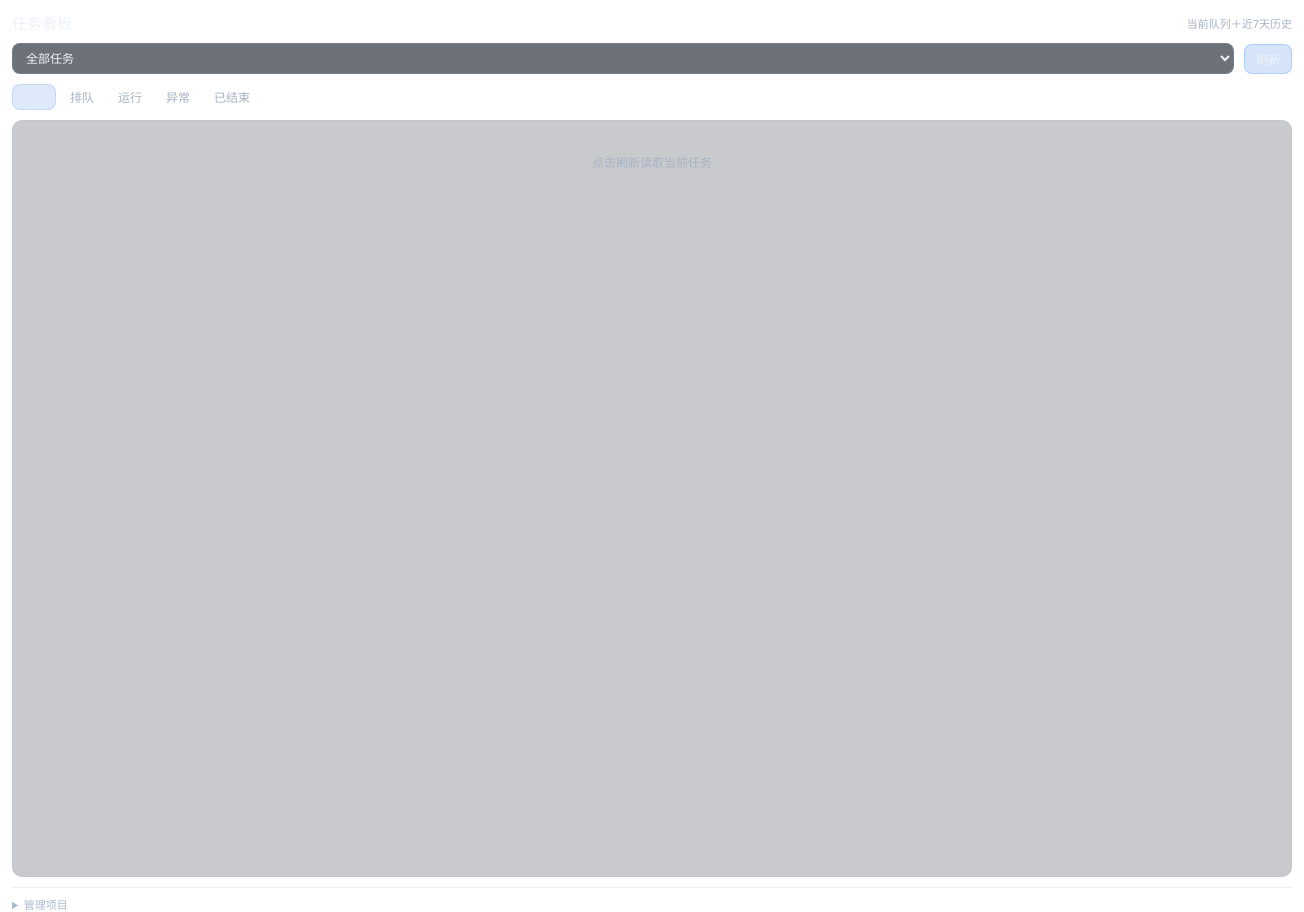
Test: HPC task board › selects jobs and saves a named batch, surviving a storage failure in memory
The width and height of the screenshot is (1304, 912).
Click the button "刷新". click: {"x": 1268, "y": 58}
box: x1=1244 y1=44 x2=1292 y2=74
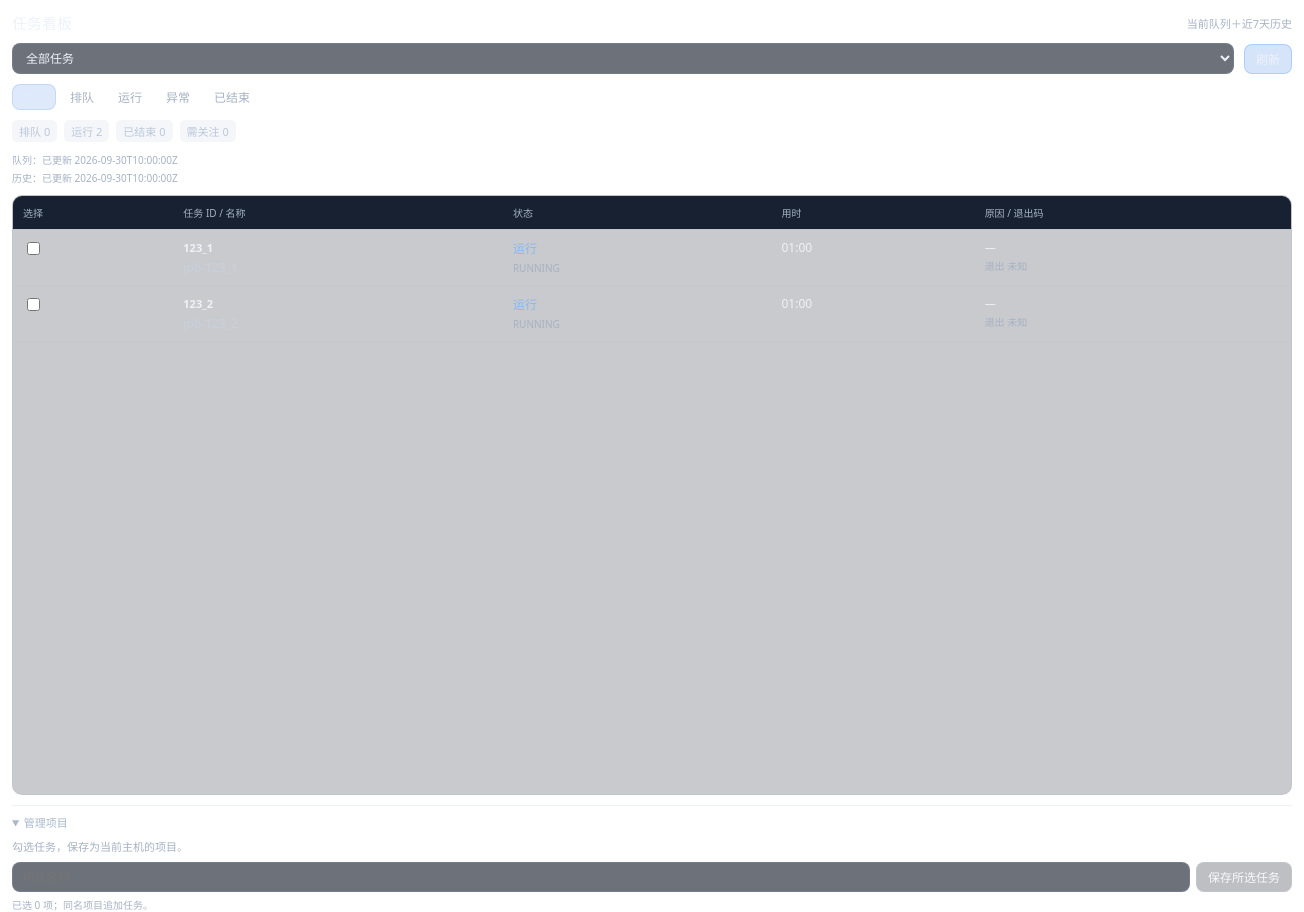
Click the checkbox named "选择任务 123_1". click: {"x": 34, "y": 248}
box: x1=27 y1=242 x2=40 y2=255
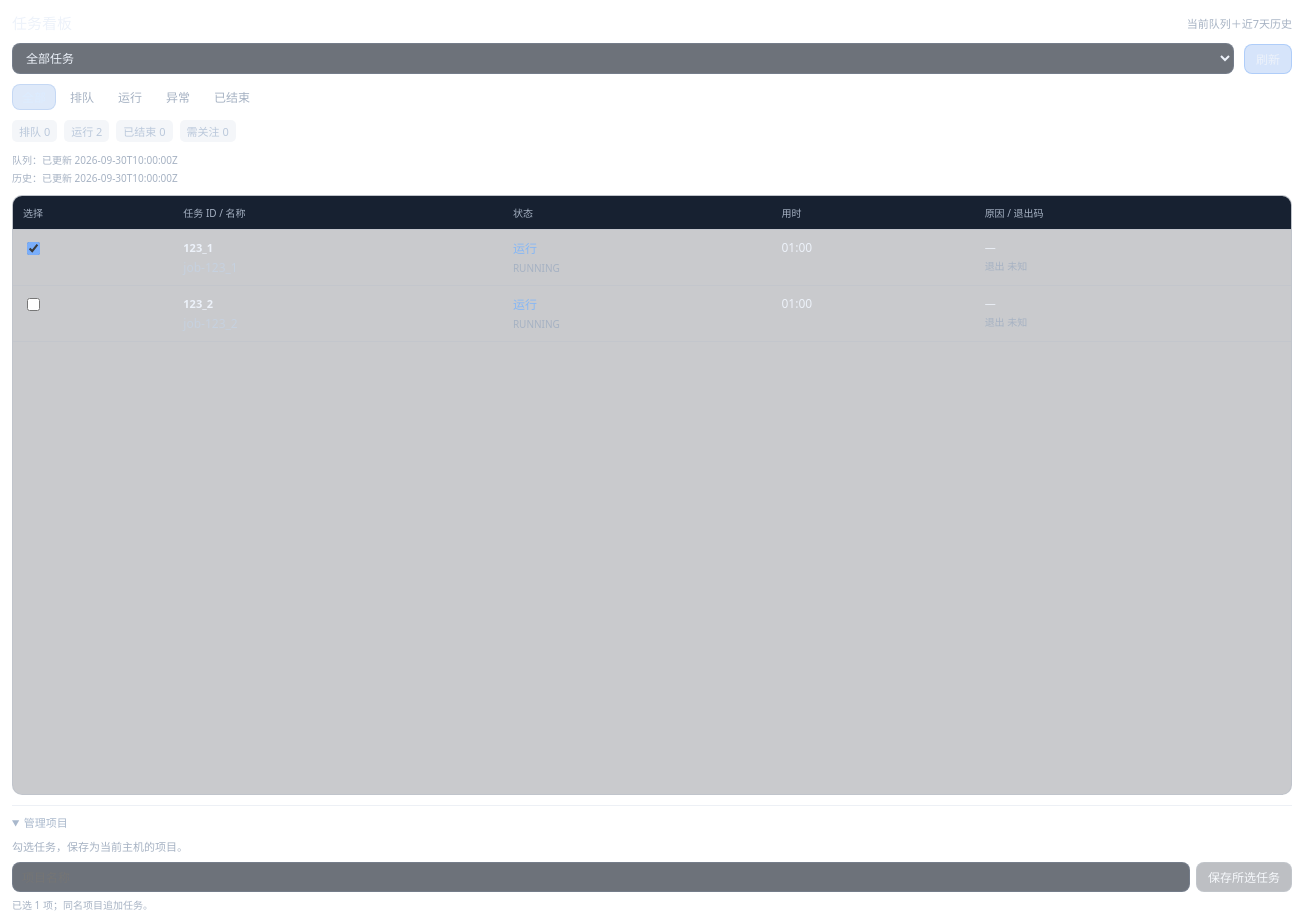
Type "选中批次" into the field labelled "项目名称". click: {"x": 601, "y": 877}
box: x1=12 y1=862 x2=1190 y2=892
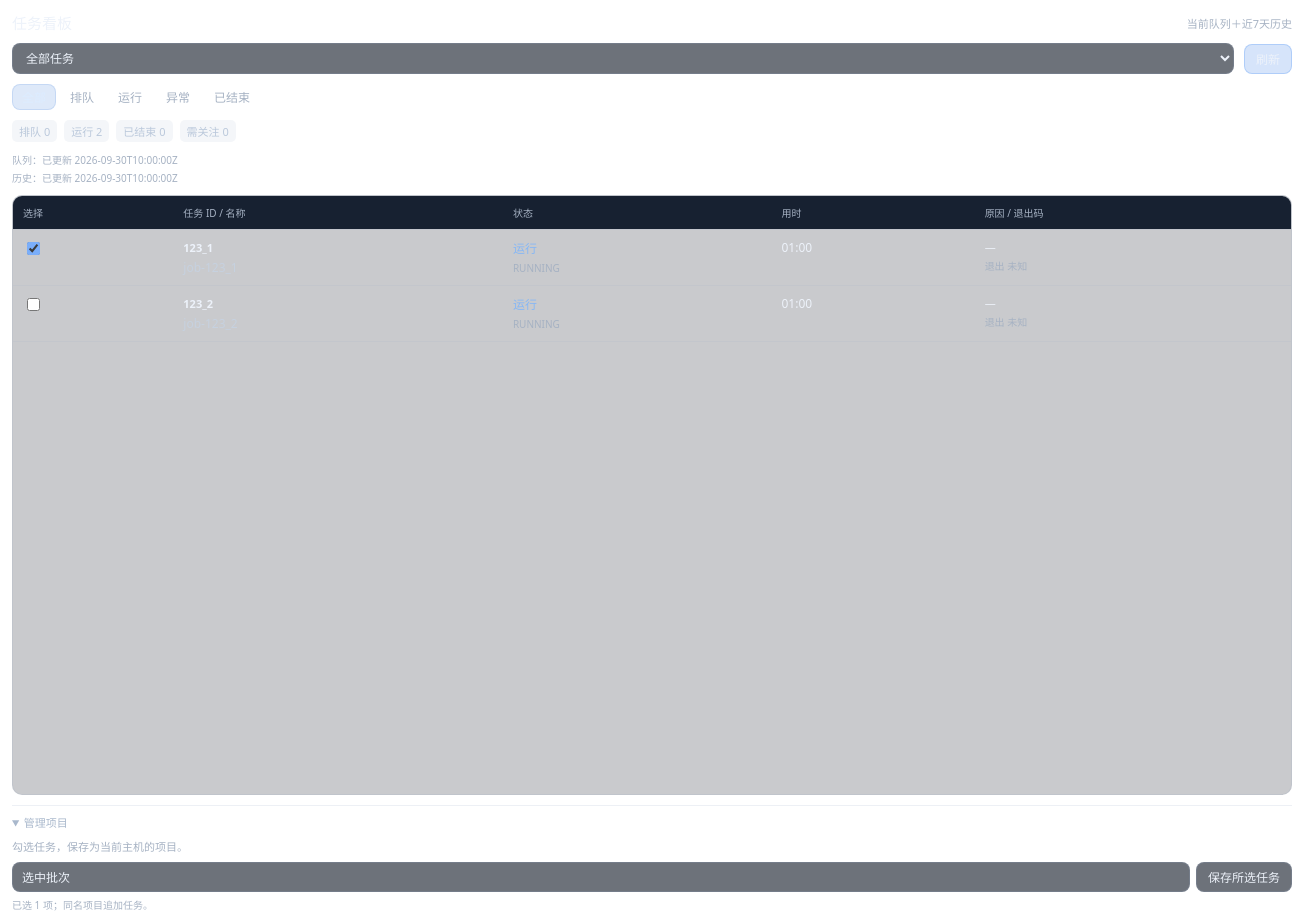
Click the button "保存所选任务". click: {"x": 1244, "y": 877}
box: x1=1196 y1=862 x2=1292 y2=892
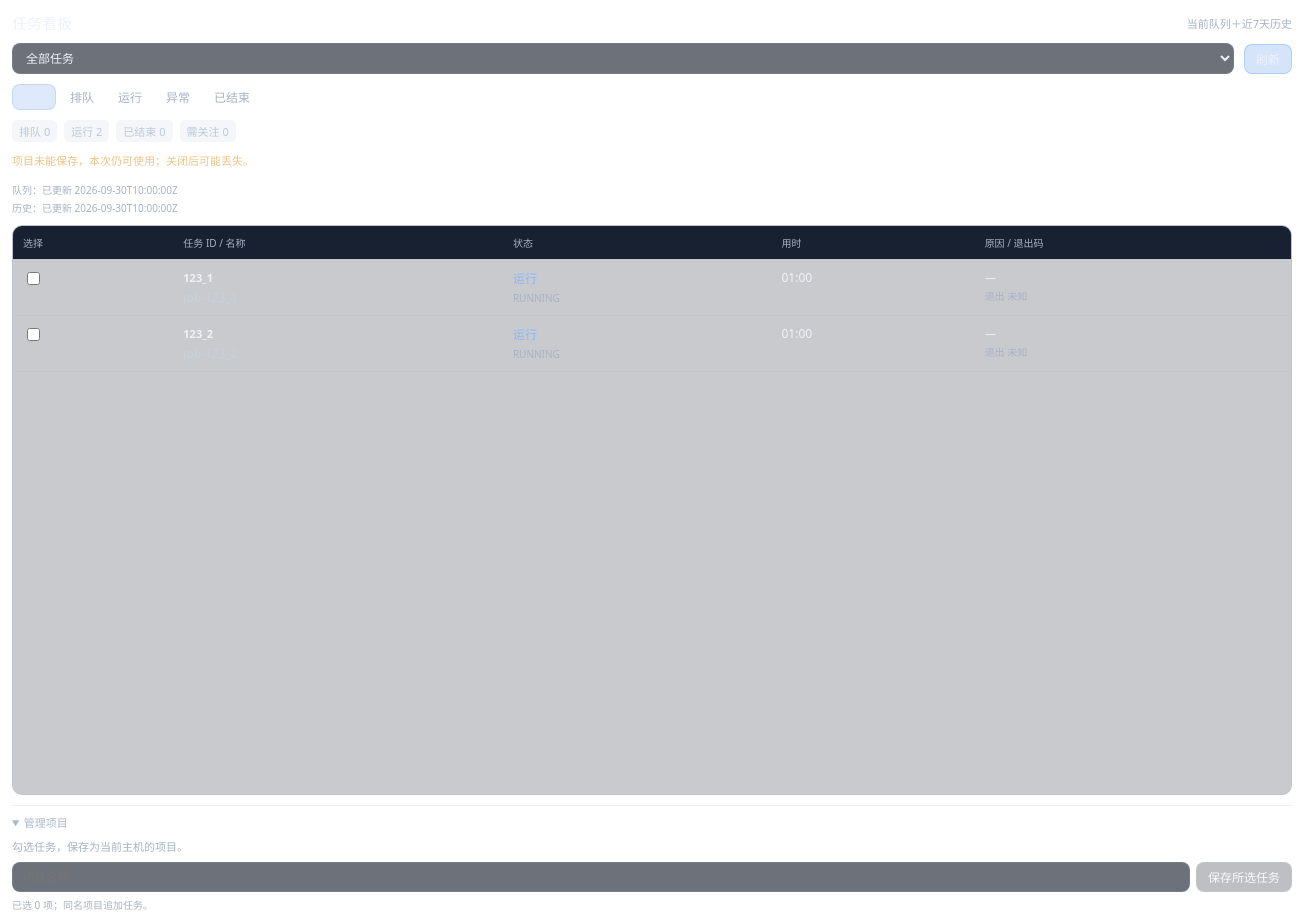
Check: the button "刷新" is enabled, box x1=1244 y1=44 x2=1292 y2=74
Check: the text "项目未能保存，本次仍可使用；关闭后可能丢失。" is shown, box x1=12 y1=153 x2=254 y2=168
